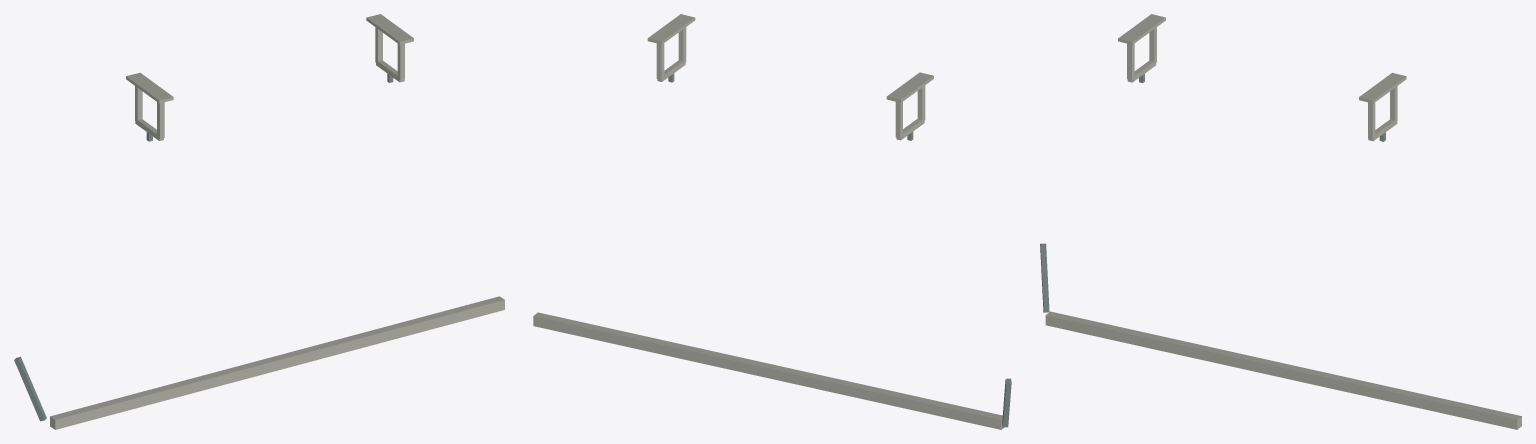
Rendered from SM_CatenariaLosa_v3_Caida_LOD0.fbx.
3 views of the same model, side by side, from view 1: azimuth 30°, elevation 25°; view 2: azimuth 150°, elevation 25°; view 3: azimuth 330°, elevation 25° (orthographic).
Parts seen in each view (by area): view 1: SM_catenaria_losa_v3_LOD0; view 2: SM_catenaria_losa_v3_LOD0; view 3: SM_catenaria_losa_v3_LOD0.
Boxes of the visible parts, x1,y1,x2,y2 form: SM_catenaria_losa_v3_LOD0: (14,14,504,429); SM_catenaria_losa_v3_LOD0: (533,14,1011,429); SM_catenaria_losa_v3_LOD0: (1040,14,1521,429).
Size of the model in its own units: 10.06 by 6.35 by 1.27.
